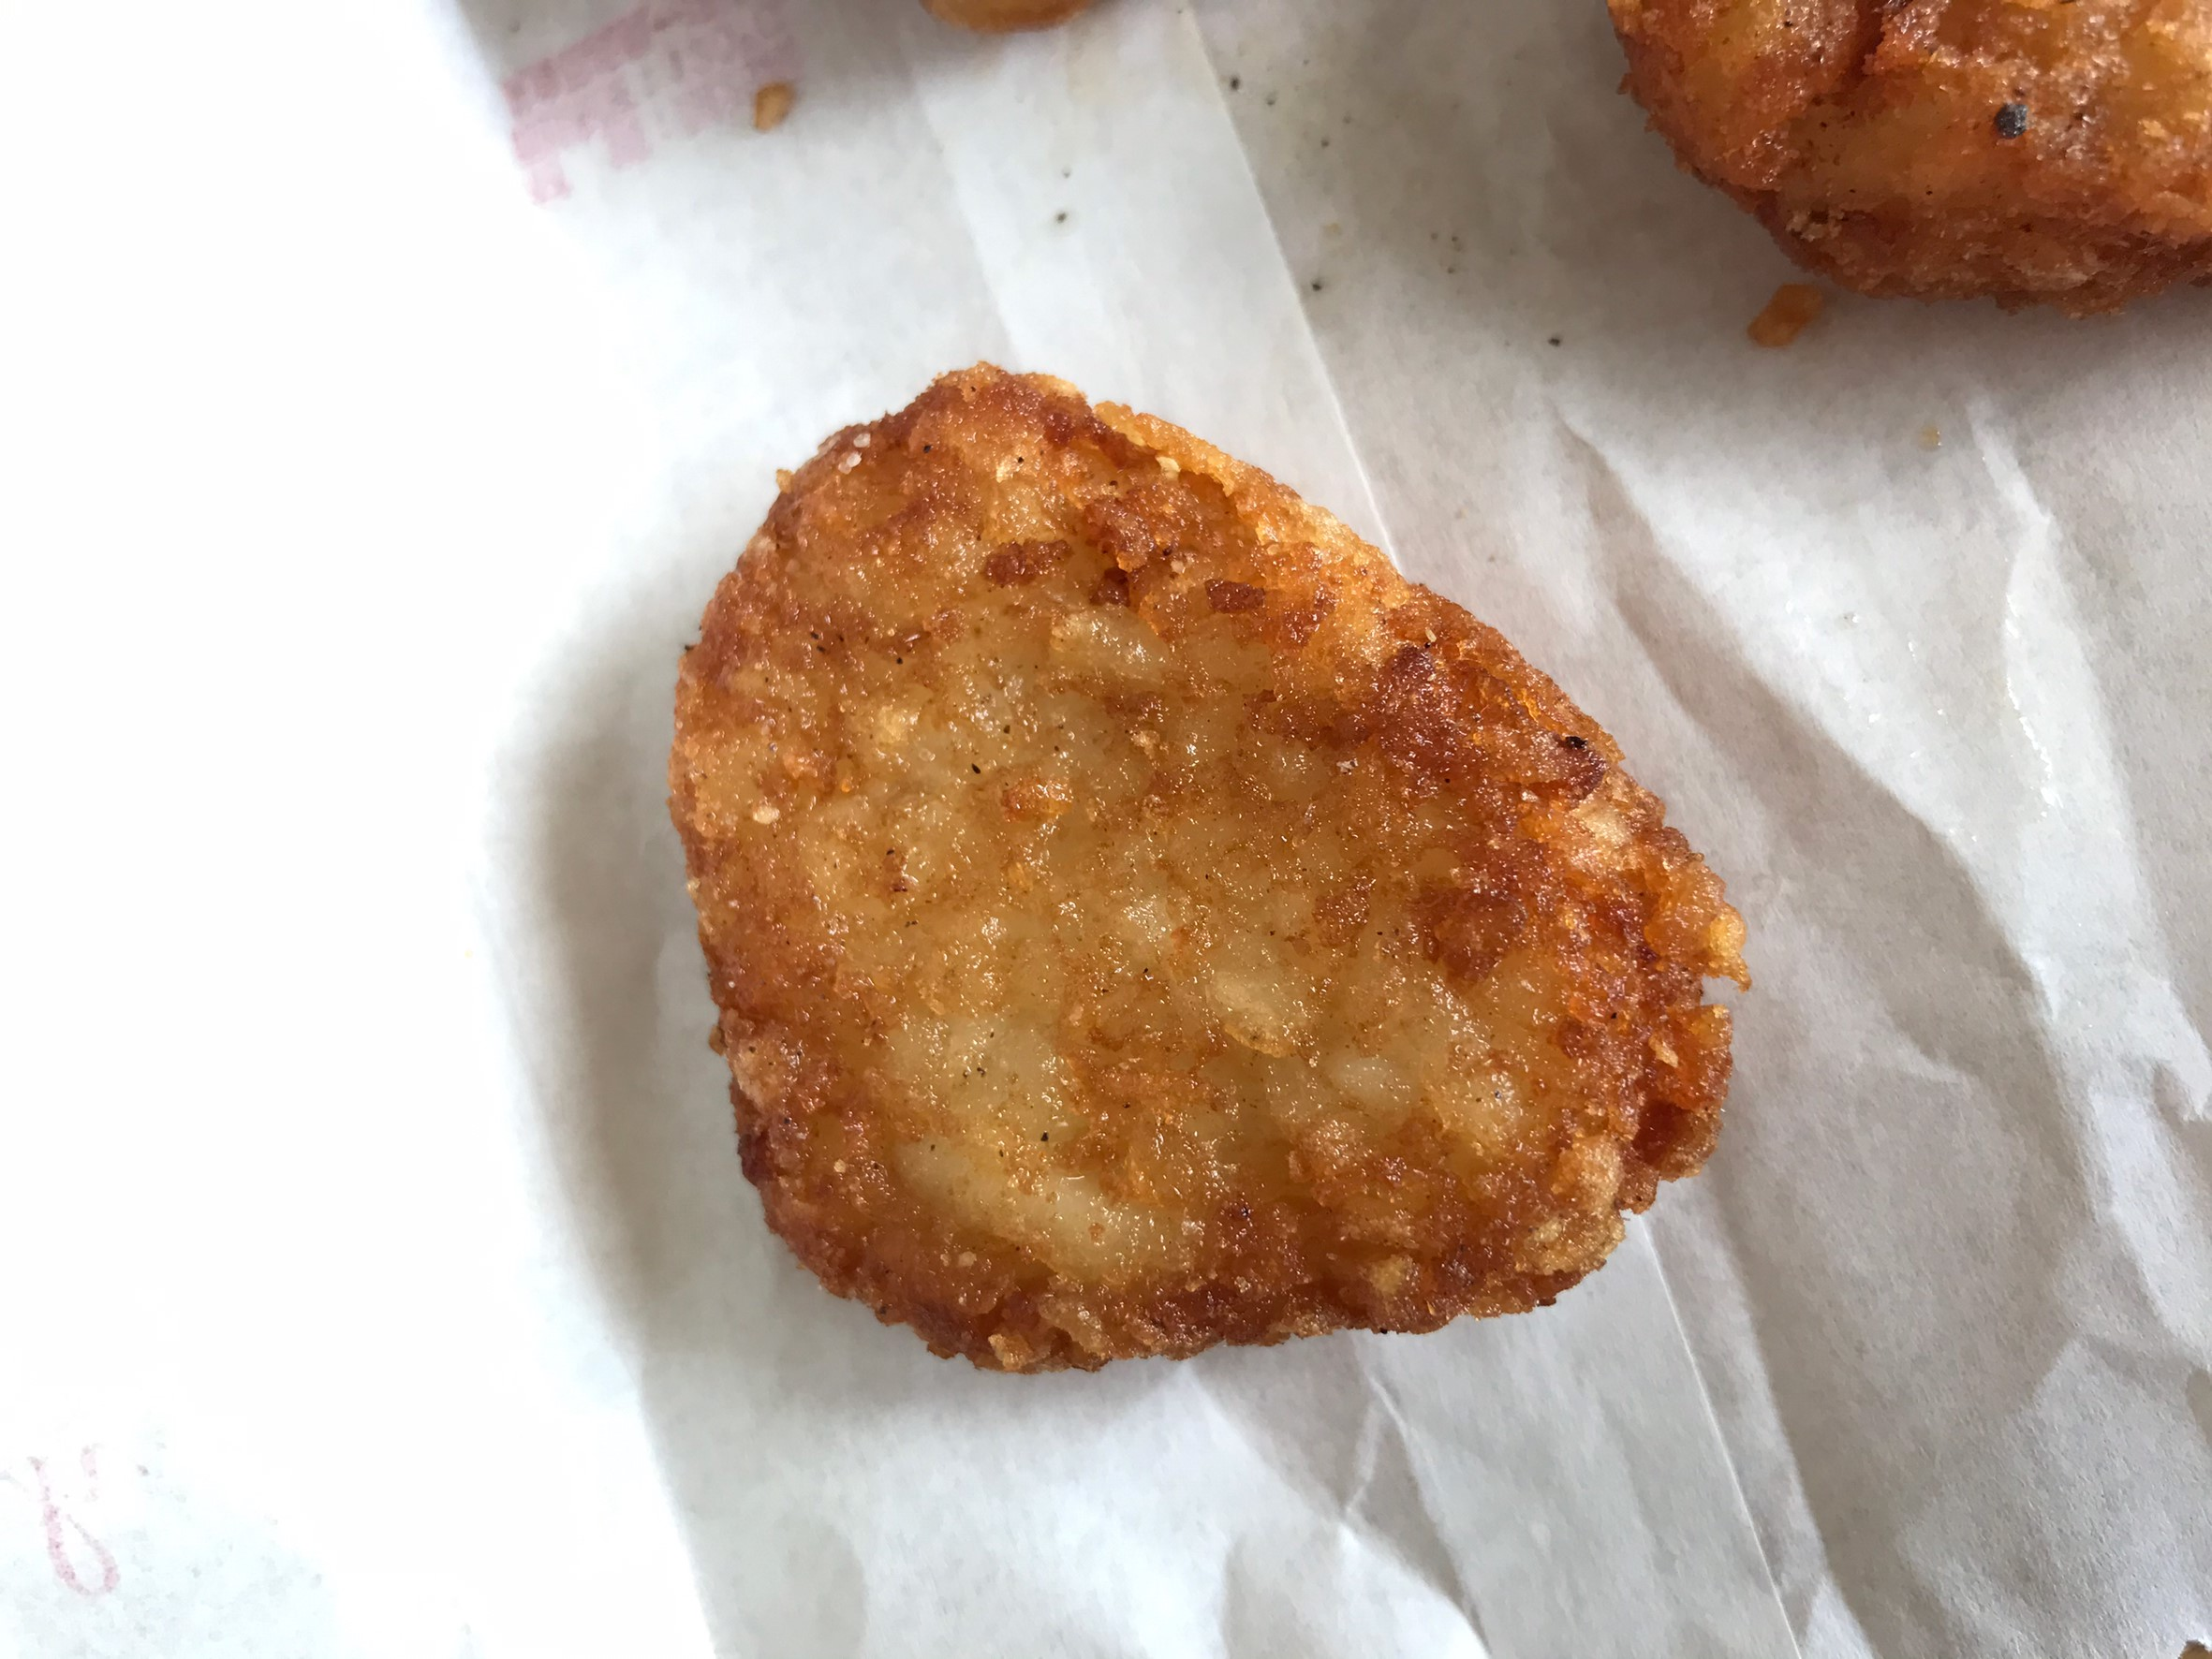triangle_hash_brown: (645, 347, 1759, 1384)
